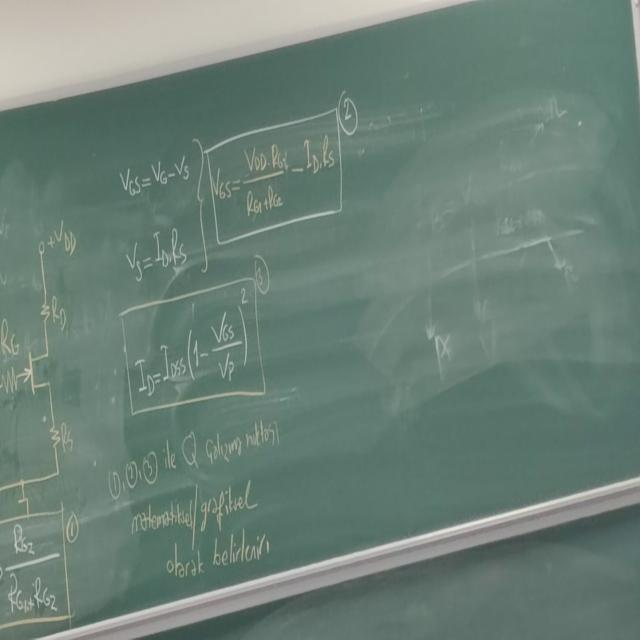image: (0, 208, 95, 504)
math: (199, 108, 347, 249), (123, 277, 258, 411), (112, 142, 209, 291), (0, 511, 69, 621)
text: (100, 401, 298, 607)
